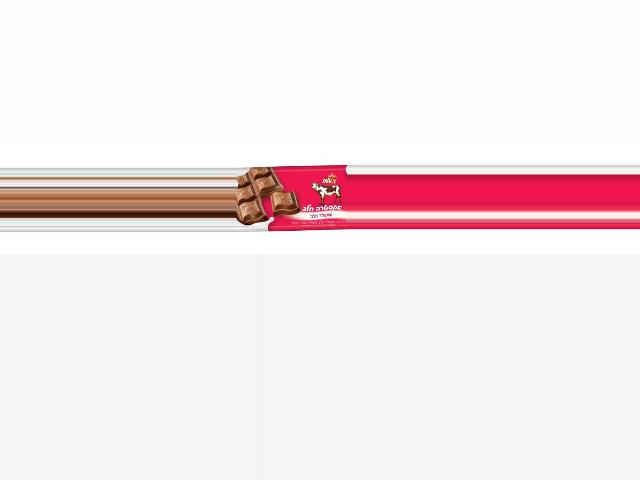chocolate: (236, 167, 348, 232)
